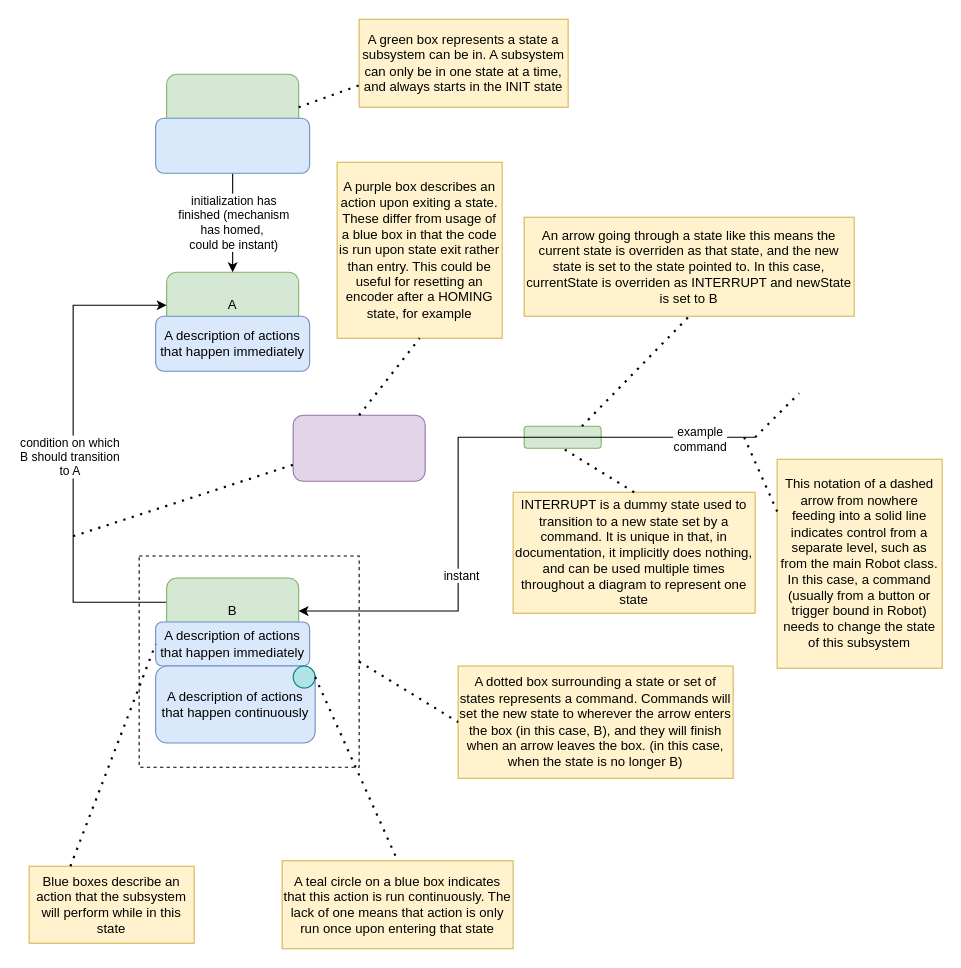
This 961x968 diagram has some shape labels left out. Each missing label, with the centre of its shape:
Action run upon exiting B: the point at 358,447
Actions for initialization (zeroing encoders, etc.): the point at 232,145
INIT: the point at 232,106
INTERRUPT: the point at 562,436
